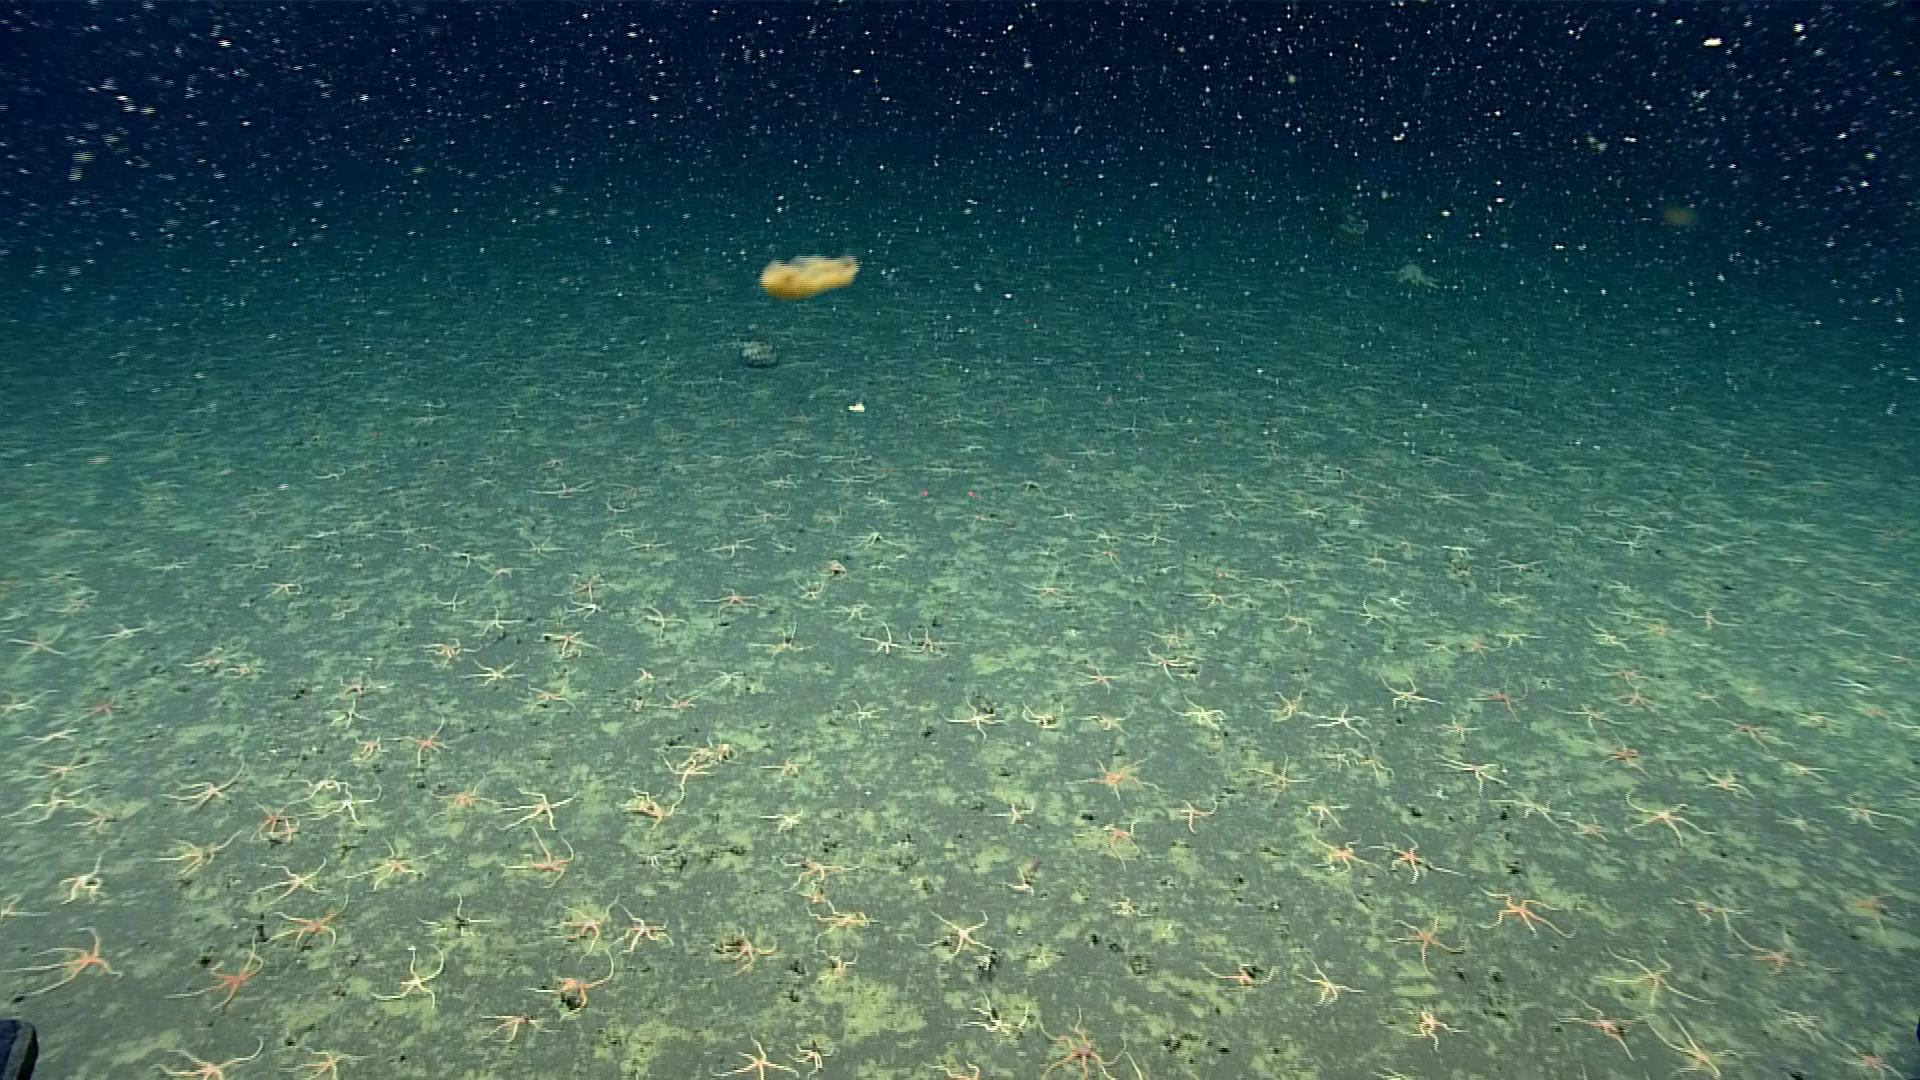brittle_sea_star: (4, 923, 121, 996), (164, 935, 264, 1009), (1605, 945, 1709, 1014), (1559, 992, 1647, 1062), (1731, 926, 1838, 978), (1651, 1013, 1737, 1077), (1039, 1009, 1116, 1076), (525, 961, 615, 1018), (1617, 790, 1710, 843), (1, 782, 102, 831), (539, 893, 613, 959), (148, 828, 241, 880), (371, 945, 446, 1009), (345, 840, 436, 891), (161, 1034, 264, 1079), (1389, 918, 1466, 976), (1476, 889, 1565, 939), (918, 907, 994, 960), (270, 905, 349, 953), (505, 831, 575, 885), (496, 785, 578, 831), (414, 893, 492, 939), (385, 717, 460, 765), (1383, 835, 1458, 882), (608, 905, 674, 959), (417, 774, 492, 820), (160, 769, 244, 810), (803, 898, 880, 943), (1435, 750, 1509, 796), (1494, 785, 1568, 831), (1296, 960, 1360, 1013), (1076, 758, 1156, 799), (965, 992, 1029, 1042), (1085, 812, 1141, 869), (773, 852, 856, 889), (256, 857, 328, 899), (1406, 1006, 1472, 1052), (1308, 835, 1378, 878), (310, 785, 382, 825), (716, 928, 778, 976), (1671, 889, 1747, 927), (944, 696, 1007, 741), (724, 1034, 786, 1079), (9, 752, 96, 783), (1195, 957, 1276, 990), (624, 785, 680, 832), (287, 1044, 368, 1077), (57, 855, 112, 902), (476, 1006, 549, 1042), (1242, 758, 1307, 798), (1713, 712, 1779, 750), (7, 622, 70, 662), (1772, 1001, 1830, 1043), (1249, 687, 1317, 723), (462, 603, 527, 640), (1589, 733, 1646, 775), (703, 583, 766, 618), (1377, 676, 1437, 713), (456, 655, 524, 688), (1829, 799, 1902, 829), (657, 753, 715, 790), (245, 799, 298, 839), (753, 624, 812, 658), (1553, 700, 1623, 729), (1851, 886, 1902, 926), (415, 634, 477, 666), (1473, 682, 1530, 716), (1150, 618, 1207, 653), (521, 678, 574, 713), (1171, 798, 1222, 833), (629, 603, 684, 636), (1172, 698, 1228, 731), (1138, 645, 1187, 682), (1362, 1052, 1428, 1079), (860, 622, 905, 659), (538, 628, 595, 657), (1300, 796, 1352, 828), (676, 736, 737, 762), (94, 620, 146, 649), (1319, 704, 1371, 733), (1015, 575, 1073, 601), (787, 1039, 835, 1071), (1075, 663, 1124, 694), (1698, 767, 1747, 798), (903, 626, 953, 655), (562, 592, 612, 621), (1108, 1044, 1150, 1079), (323, 698, 371, 728), (1178, 585, 1238, 609), (1349, 545, 1400, 572), (0, 891, 46, 922), (1273, 604, 1315, 637), (1075, 542, 1125, 570), (1353, 600, 1396, 632), (18, 725, 83, 746), (74, 803, 128, 828), (1845, 1046, 1891, 1075), (1601, 655, 1643, 687), (924, 1055, 980, 1079), (181, 646, 229, 673), (1079, 524, 1125, 551), (297, 773, 347, 798), (1683, 604, 1730, 630), (1077, 709, 1133, 732), (1022, 703, 1064, 732), (1357, 753, 1395, 785), (1432, 717, 1485, 740), (708, 531, 752, 558), (525, 481, 591, 498), (839, 698, 878, 725), (1571, 816, 1610, 844), (853, 524, 891, 551), (322, 674, 372, 695), (732, 504, 789, 522), (760, 808, 806, 831), (1481, 585, 1527, 608), (659, 691, 704, 713), (824, 951, 860, 978), (1378, 585, 1414, 613), (990, 803, 1036, 824), (1789, 705, 1830, 729), (1778, 760, 1828, 778), (475, 563, 527, 580), (1134, 524, 1174, 546), (835, 600, 876, 621), (1776, 808, 1817, 829), (1618, 687, 1656, 709), (80, 698, 119, 720), (1497, 629, 1545, 646), (352, 733, 384, 760), (1325, 746, 1357, 773), (1156, 495, 1196, 516), (816, 554, 851, 578), (224, 658, 262, 679), (1501, 555, 1544, 574), (793, 576, 823, 603), (1455, 638, 1490, 661), (1821, 618, 1861, 638), (766, 756, 803, 777), (145, 556, 191, 572), (1288, 501, 1331, 518), (856, 491, 897, 508), (1009, 870, 1035, 897), (566, 575, 599, 596), (1691, 683, 1721, 705), (265, 578, 305, 595), (438, 549, 484, 563), (1611, 535, 1650, 553), (633, 665, 661, 686), (435, 591, 463, 609), (622, 694, 647, 712), (605, 525, 637, 537), (1058, 506, 1079, 522)
